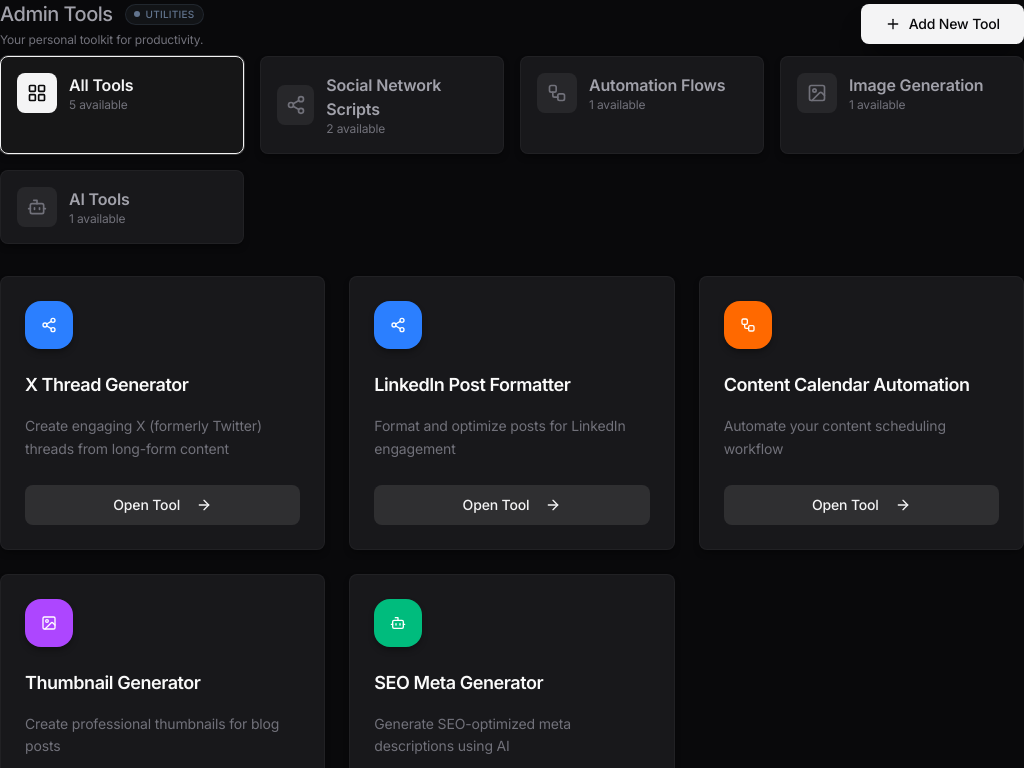
Test: ToolsPage › Category Filtering › filters tools when Automation Flows category is clicked
Click the text "Automation Flows": (657, 85) [589,73,725,97]
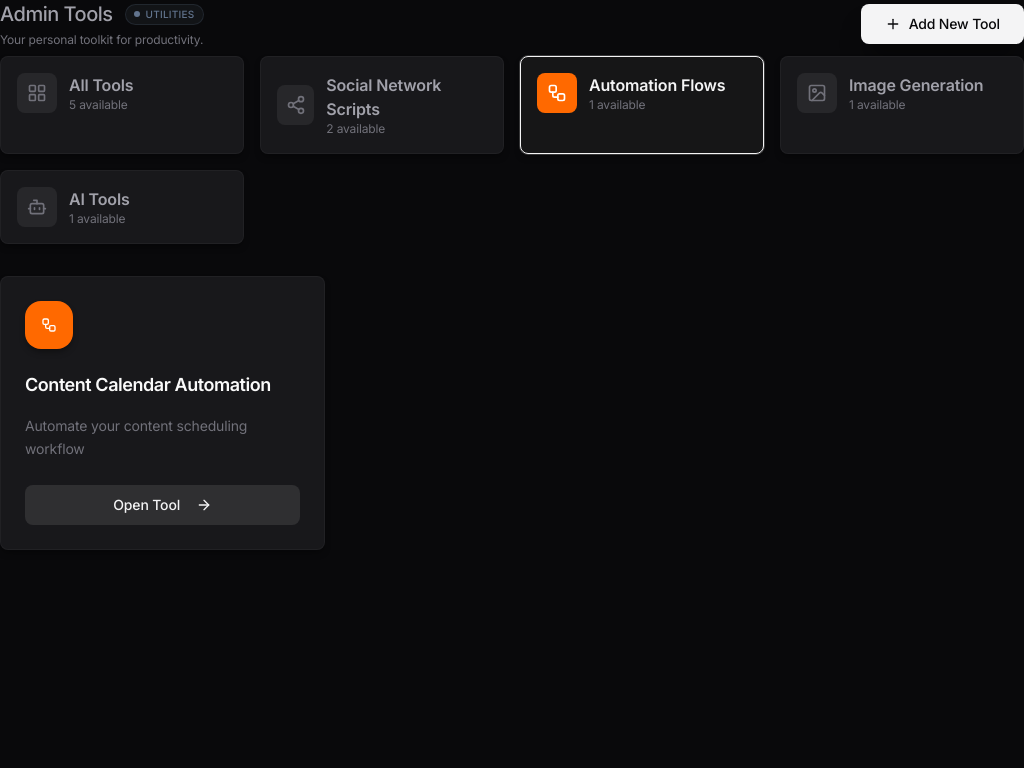
Expected: the text "Content Calendar Automation" is shown, [25,371,300,399]
Result: the text "LinkedIn Post Formatter" is gone
